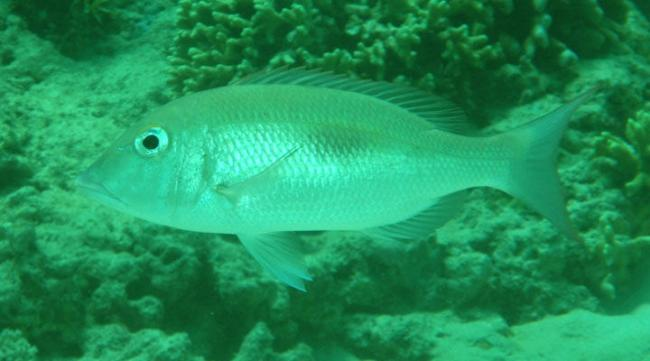fish: (73, 65, 598, 295)
